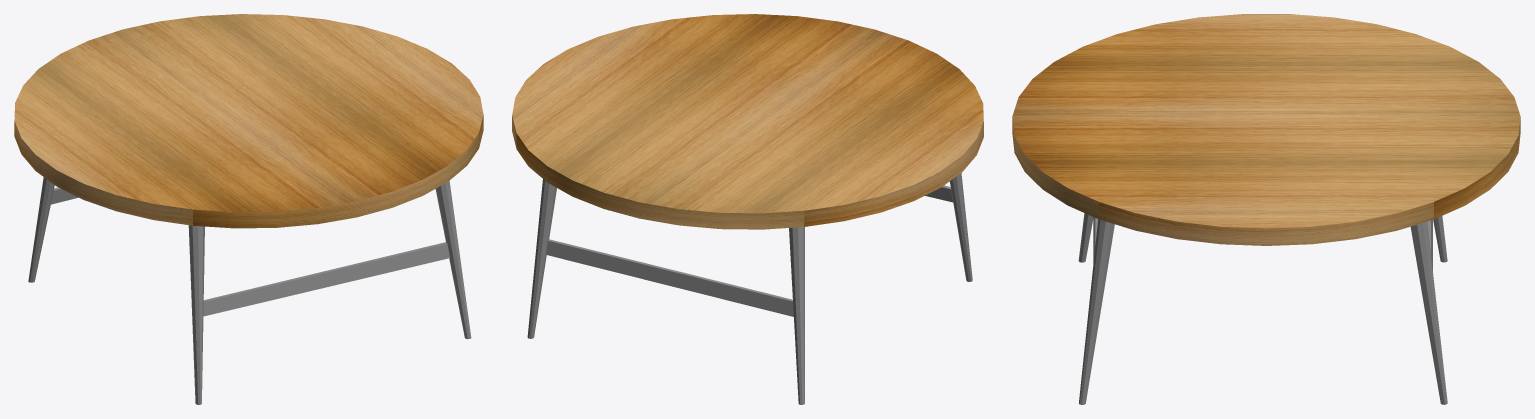
File: roundTable-Low-Quality.FBX
The picture shows the model from 3 angles, left to right: view 1: azimuth 30°, elevation 25°; view 2: azimuth 150°, elevation 25°; view 3: azimuth 270°, elevation 25°; orthographic projection. The views are drawn at different scales.
Visible parts, largest first — view 1: Cylinder004; view 2: Cylinder004; view 3: Cylinder004.
Part boxes in pixels (x1=…): Cylinder004: x1=14, y1=14, x2=483, y2=404; Cylinder004: x1=512, y1=14, x2=983, y2=404; Cylinder004: x1=1012, y1=14, x2=1520, y2=404.
Bounding box in the file's own units: 1.03 × 0.4744 × 1.03.
